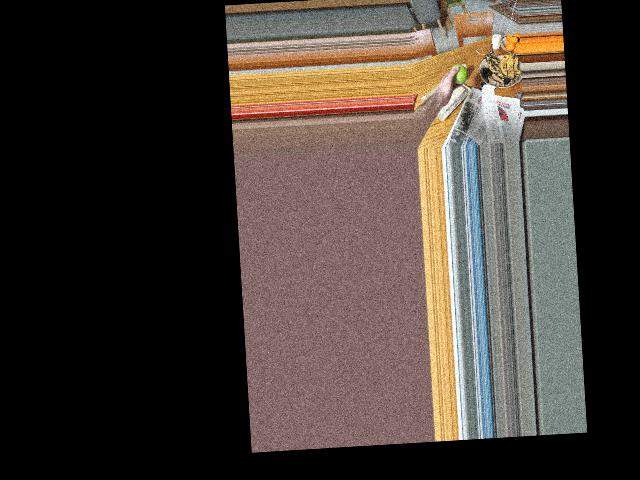apple: (447, 63, 468, 86)
